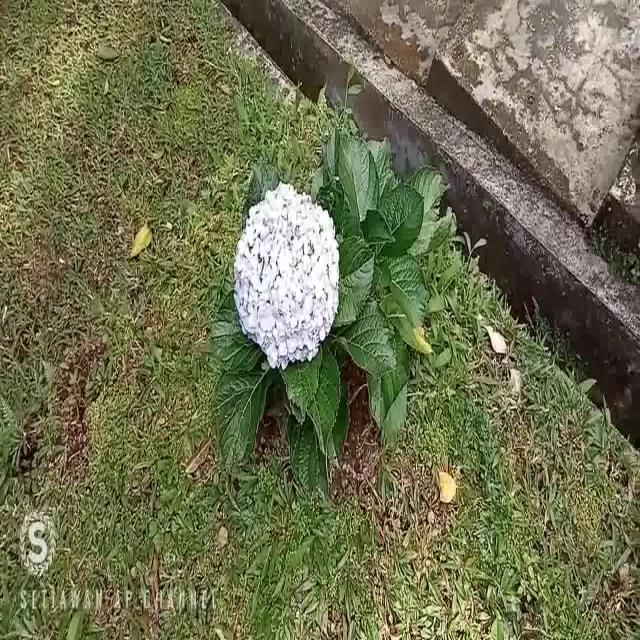Flower: (232, 182, 340, 367)
